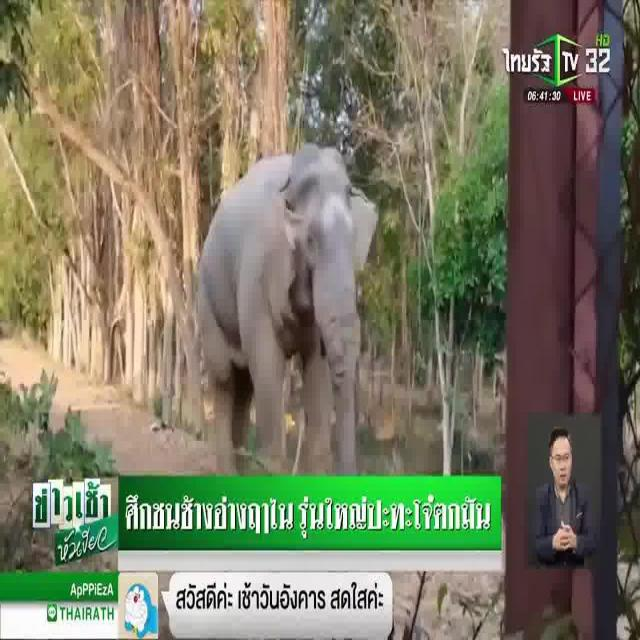Elephant: (193, 135, 374, 464)
